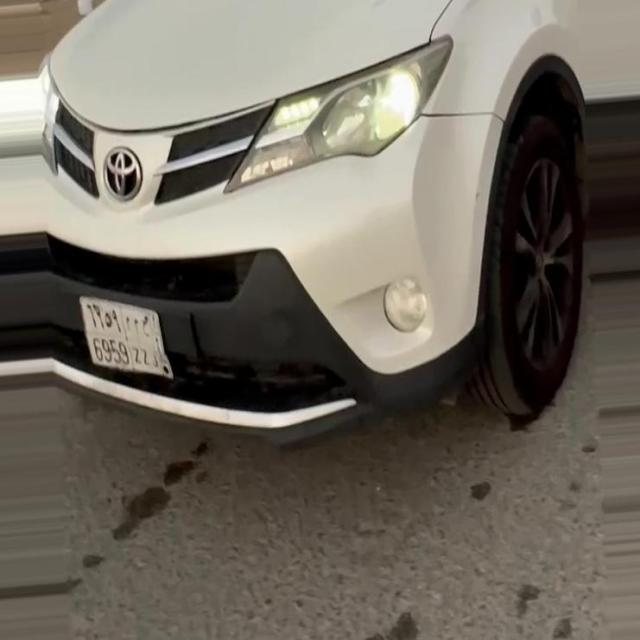Car-plate: (78, 283, 192, 385)
